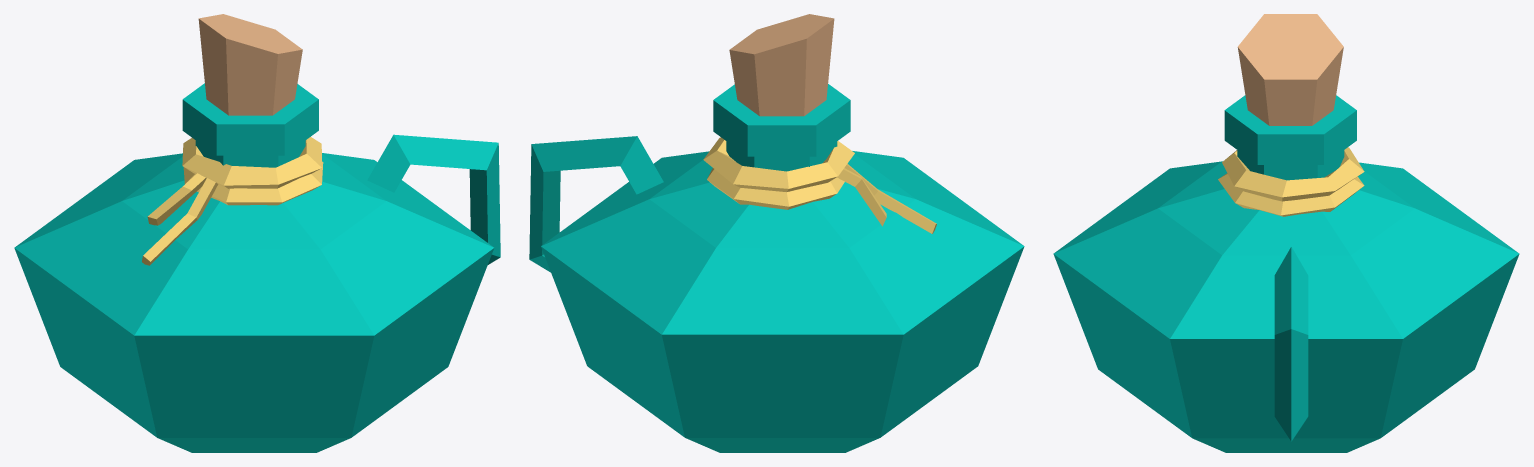
Rendered from Bottle_07.glb.
3 renders of one model, left to right at view 1: azimuth 30°, elevation 25°; view 2: azimuth 150°, elevation 25°; view 3: azimuth 270°, elevation 25°, orthographic. The views are drawn at different scales.
Parts seen in each view (by area): view 1: Bottle_07; view 2: Bottle_07; view 3: Bottle_07.
Part boxes in pixels (x1=…): Bottle_07: x1=14, y1=14, x2=500, y2=452; Bottle_07: x1=529, y1=14, x2=1024, y2=452; Bottle_07: x1=1053, y1=14, x2=1519, y2=452.
Size of what is drawn, in the model's own units: 0.4309 by 0.3715 by 0.4177.
1 material, 1 textured.
